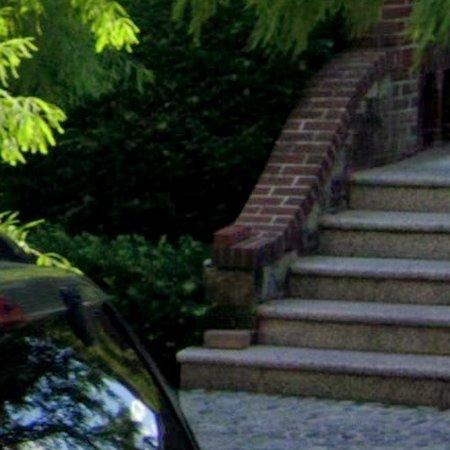stairs: (182, 149, 450, 409)
